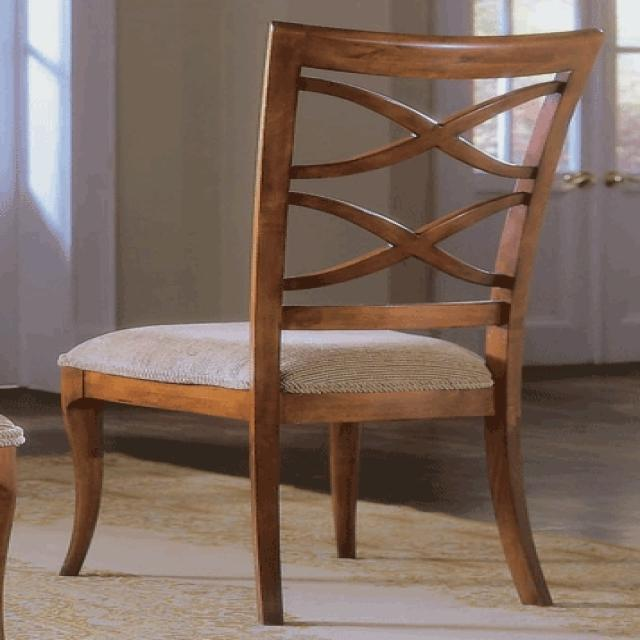chair: (55, 19, 602, 626)
